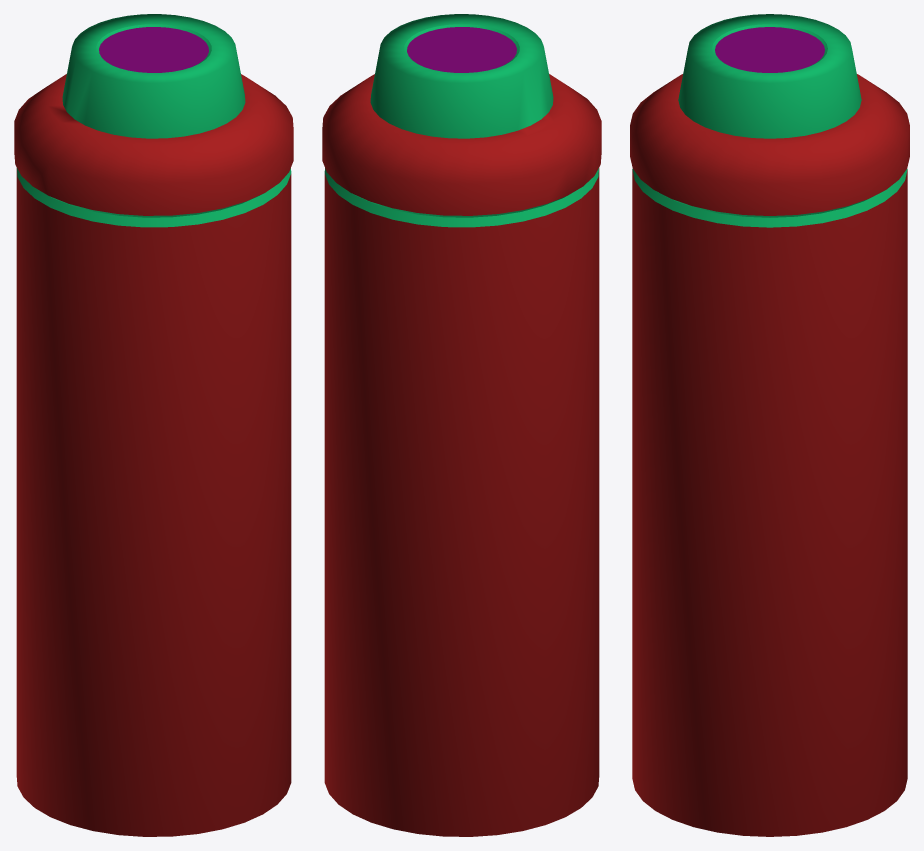
The model's file is thermos.fbx.
3 renders of one model, left to right at view 1: azimuth 30°, elevation 25°; view 2: azimuth 150°, elevation 25°; view 3: azimuth 270°, elevation 25°, orthographic.
Parts seen in each view (by area): view 1: thermos; view 2: thermos; view 3: thermos.
Boxes of the visible parts, box(x1,y1,x2,y2) form: thermos: box(14, 14, 293, 836); thermos: box(322, 14, 601, 836); thermos: box(630, 14, 909, 836).
Bounding box in the file's own units: 9.15 × 26.34 × 9.15.
